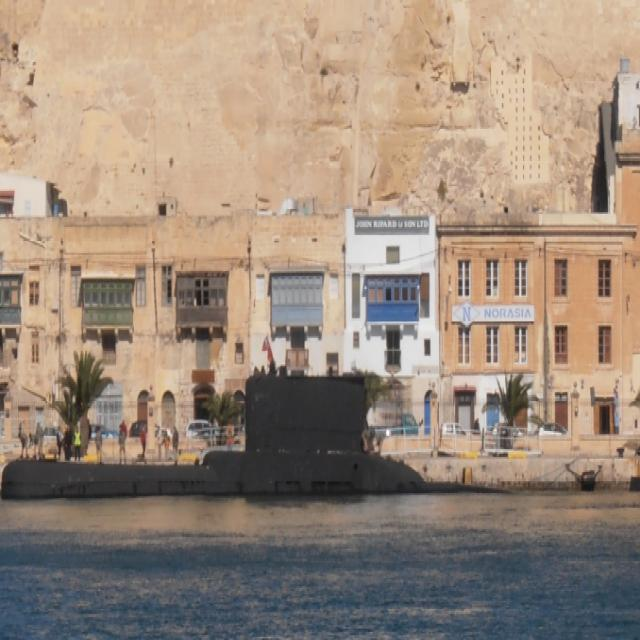submarine: (1, 372, 511, 493)
